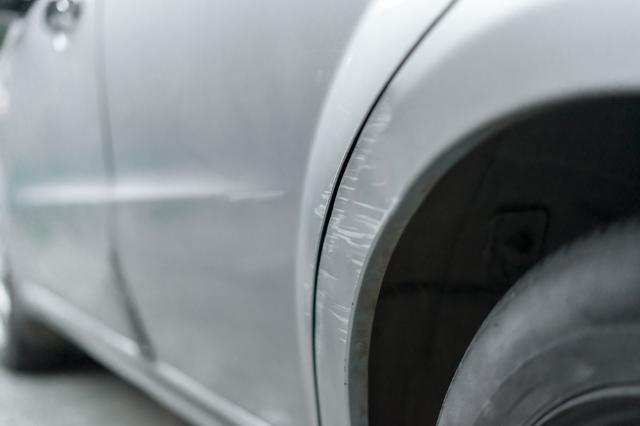scratch: (313, 97, 402, 352)
